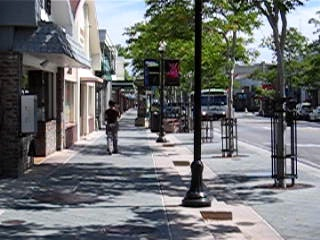person: (104, 100, 123, 157), (103, 100, 122, 157), (105, 100, 124, 157), (104, 99, 123, 156), (104, 101, 123, 158)
target_negative: (125, 21, 182, 132), (37, 146, 134, 183), (91, 134, 130, 214), (31, 210, 164, 217), (17, 148, 177, 153), (185, 145, 195, 155)
